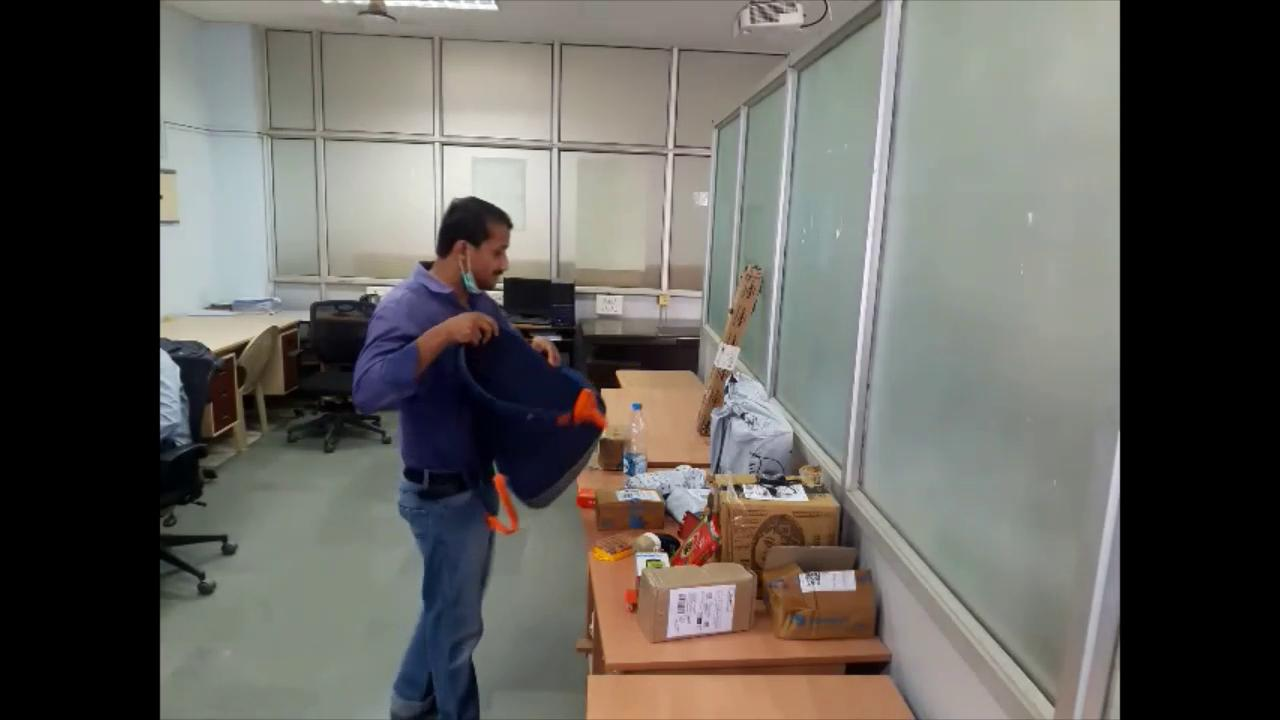shoplifting: (347, 187, 612, 720)
